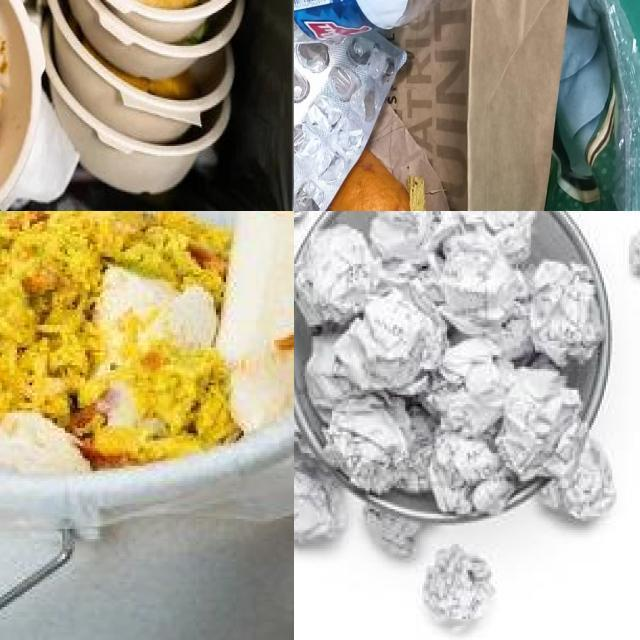Disposable: (42, 0, 243, 194), (39, 169, 71, 201)
Garbage: (0, 211, 294, 470), (294, 0, 640, 211)
Paper: (294, 211, 603, 515)
Plastic: (294, 31, 405, 211)
Plastic_Bag: (545, 0, 640, 211)
top_view_waste: (294, 211, 609, 524)
